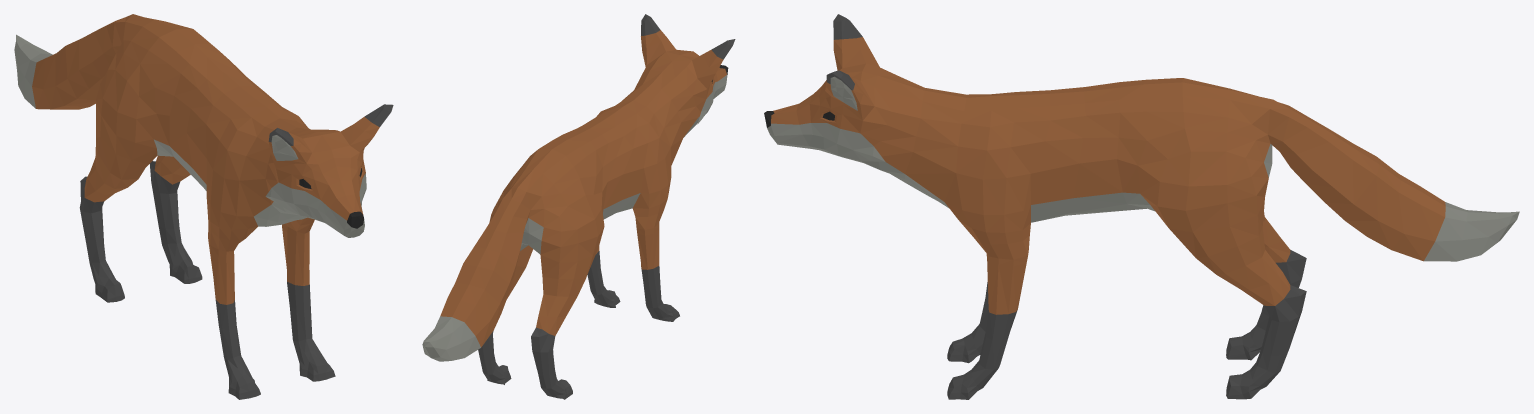
Rendered from zorro.glb.
The picture shows the model from 3 angles, left to right: view 1: azimuth 30°, elevation 25°; view 2: azimuth 150°, elevation 25°; view 3: azimuth 270°, elevation 25°; orthographic projection. The views are drawn at different scales.
Bounding box in the file's own units: 0.4166 × 1 × 2.08.
